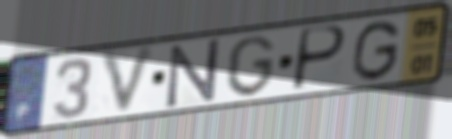3: (51, 54, 96, 122)
G: (349, 18, 403, 84), (224, 33, 277, 99)
N: (164, 36, 221, 111)
P: (289, 24, 349, 94)
V: (98, 41, 160, 119)
